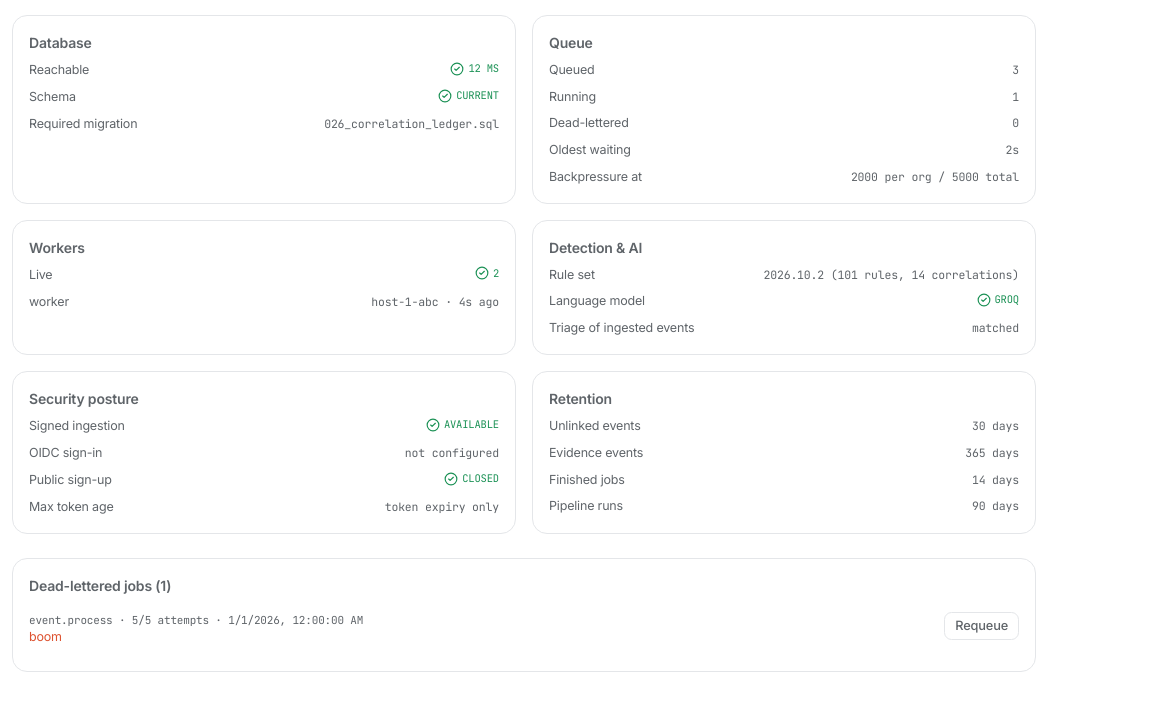
OperationsPage › requeues a dead job and refreshes
(page scrolled)
Click the button "Requeue": [982, 626] box [944,612,1019,640]
(page scrolled)
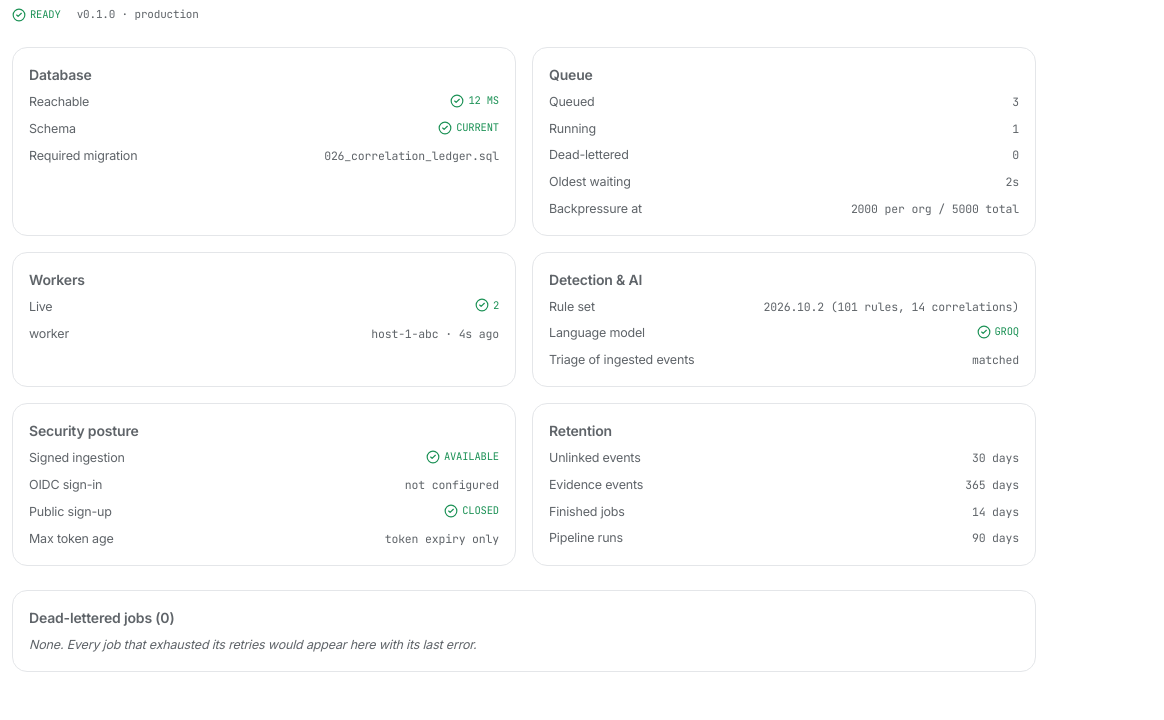
Expected: the text "boom" is gone
